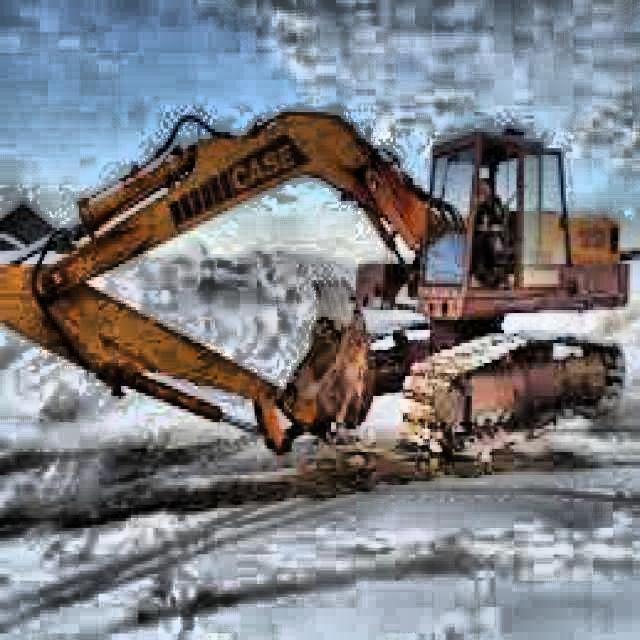bull_dozer/loader/grader: (0, 99, 640, 467)
person: (472, 177, 512, 230)
